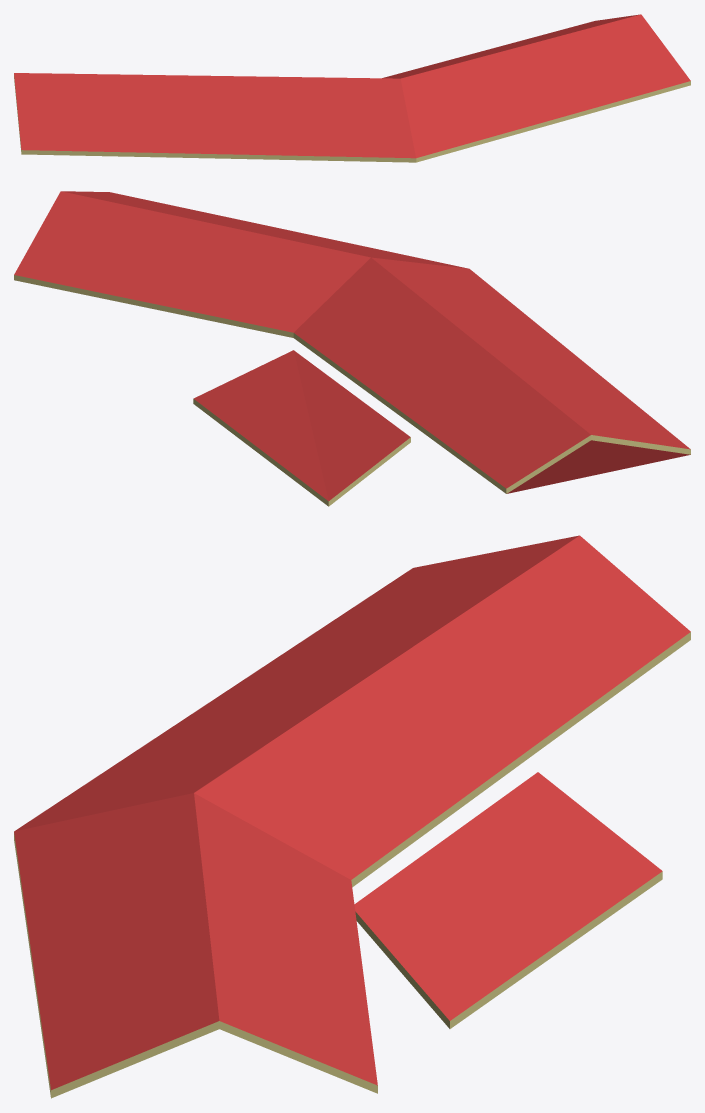
3 renders of one model, top to bottom at view 1: azimuth 30°, elevation 25°; view 2: azimuth 150°, elevation 25°; view 3: azimuth 270°, elevation 25°, orthographic. The views are drawn at different scales.
Parts seen in each view (by area): view 1: group_6, group_7; view 2: group_6, group_3, group_7, group_8, group_4; view 3: group_6, group_3, group_7, group_4.
Boxes of the visible parts, x1,y1,x2,y2 form: group_6: [14, 14, 690, 158]; group_7: [14, 75, 690, 162]; group_6: [14, 191, 690, 488]; group_3: [193, 350, 410, 501]; group_7: [14, 275, 690, 493]; group_8: [507, 440, 690, 493]; group_4: [193, 399, 410, 506]; group_6: [14, 535, 690, 1090]; group_3: [354, 772, 662, 1020]; group_7: [14, 632, 690, 1098]; group_4: [355, 871, 662, 1028].
Size of the model in its own units: 13.68 by 7.49 by 2.06.
